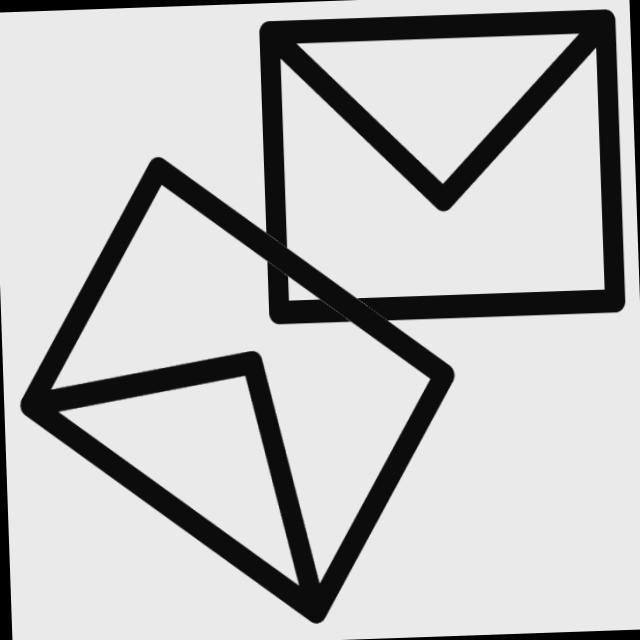letter: (5, 133, 475, 640), (252, 1, 633, 330)
